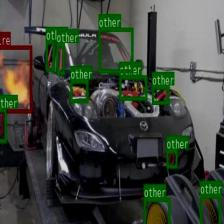fire: (0, 45, 31, 112)
